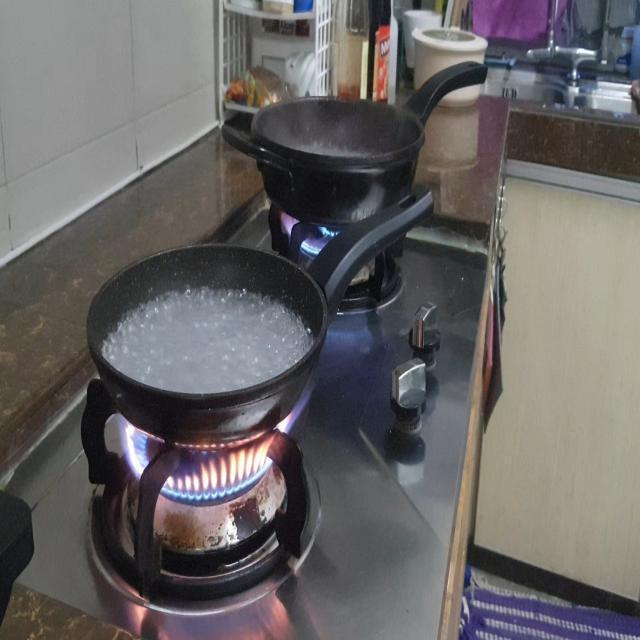smoke: (121, 386, 312, 504), (278, 208, 341, 261)
